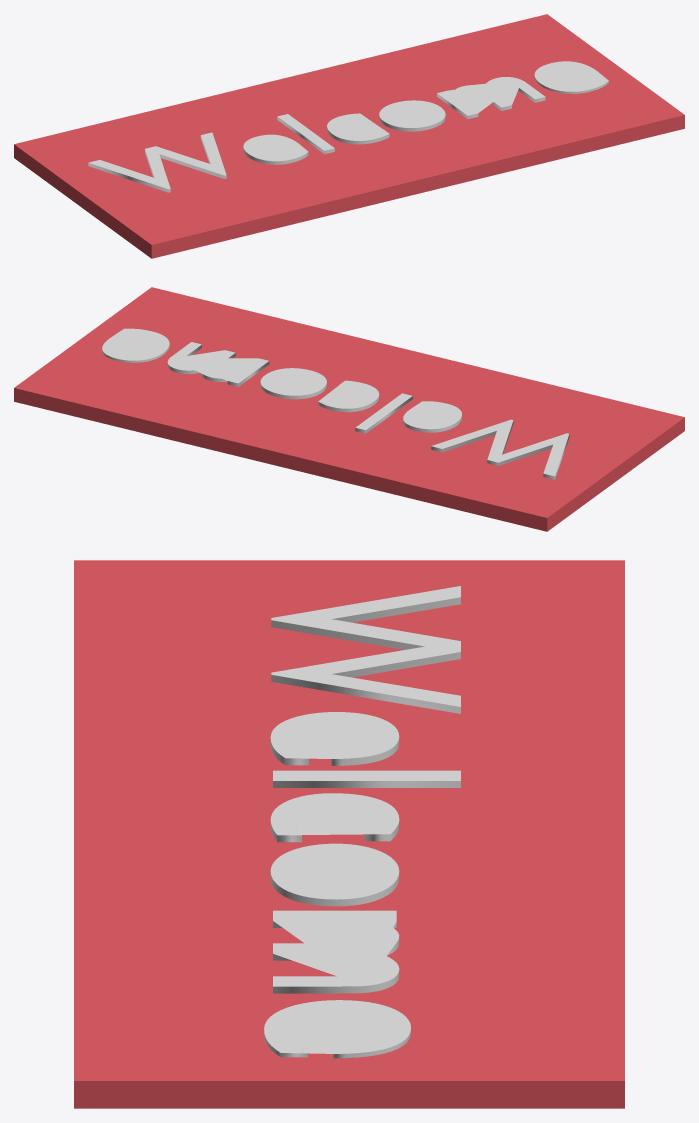
The model's file is Welcome mat.fbx.
The picture shows the model from 3 angles, top to bottom: view 1: azimuth 30°, elevation 25°; view 2: azimuth 150°, elevation 25°; view 3: azimuth 270°, elevation 25°; orthographic projection. The views are drawn at different scales.
Parts seen in each view (by area): view 1: Cube; view 2: Cube; view 3: Cube.
Boxes of the visible parts, bbox=[...] form: Cube: bbox=[14, 14, 684, 258]; Cube: bbox=[14, 287, 684, 531]; Cube: bbox=[74, 560, 624, 1108].
Size of the model in its own units: 99.75 by 6.91 by 223.
